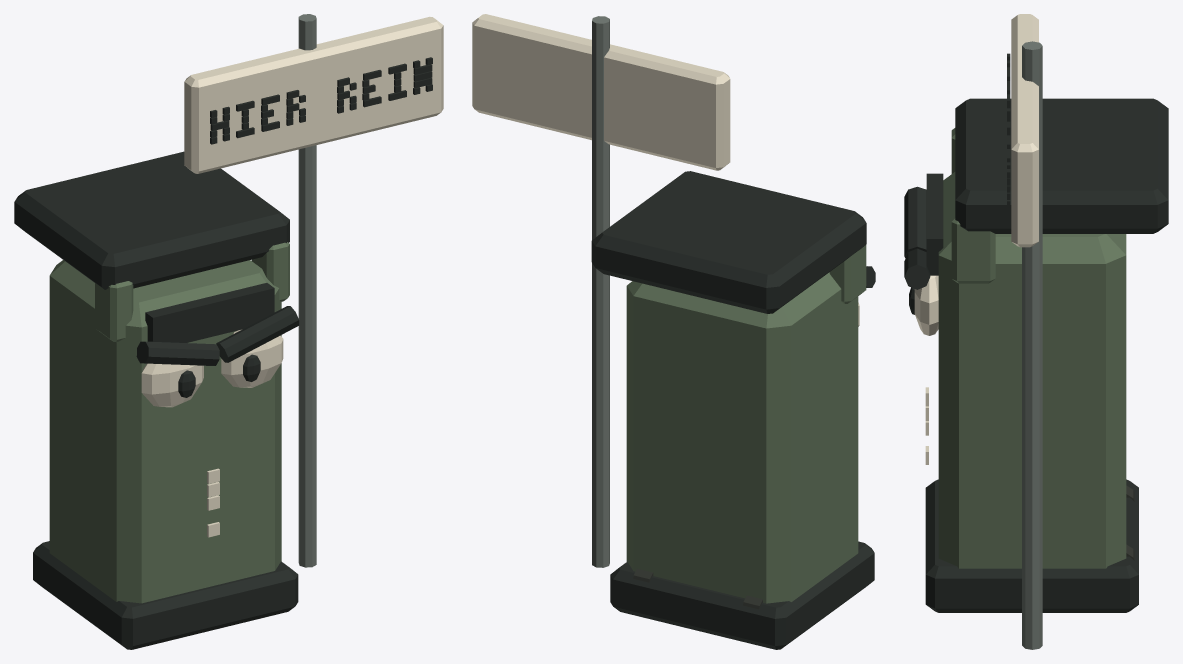
The model's file is passive-bin.glb.
The picture shows the model from 3 angles, left to right: view 1: azimuth 30°, elevation 25°; view 2: azimuth 150°, elevation 25°; view 3: azimuth 270°, elevation 25°; orthographic projection. The views are drawn at different scales.
Parts seen in each view (by area): view 1: passive-bin; view 2: passive-bin; view 3: passive-bin.
Part boxes in pixels (x1,y1,x2,y2): passive-bin: (14, 14, 443, 649); passive-bin: (472, 14, 875, 649); passive-bin: (904, 14, 1168, 649).
Bounding box in the file's own units: 1.26 × 1.8 × 0.718.
